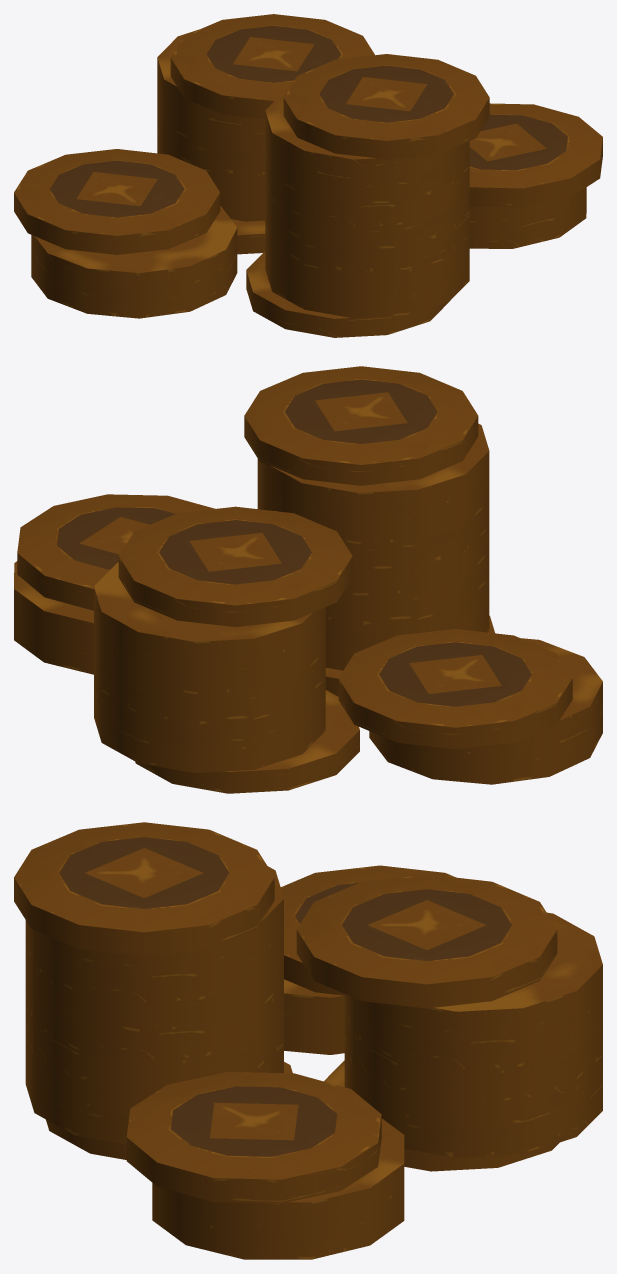
Rendered from coin_pile.gltf.
3 renders of one model, top to bottom at view 1: azimuth 30°, elevation 25°; view 2: azimuth 150°, elevation 25°; view 3: azimuth 270°, elevation 25°, orthographic. The views are drawn at different scales.
Parts seen in each view (by area): view 1: Coin_Pile; view 2: Coin_Pile; view 3: Coin_Pile.
Part boxes in pixels (left/top/right/bottom): Coin_Pile: left=14, top=14, right=602, bottom=337; Coin_Pile: left=14, top=366, right=602, bottom=793; Coin_Pile: left=14, top=822, right=602, bottom=1259.
Size of the model in its own units: 0.1975 by 0.0735 by 0.1542.
Materials: 1 (1 with a texture image).
